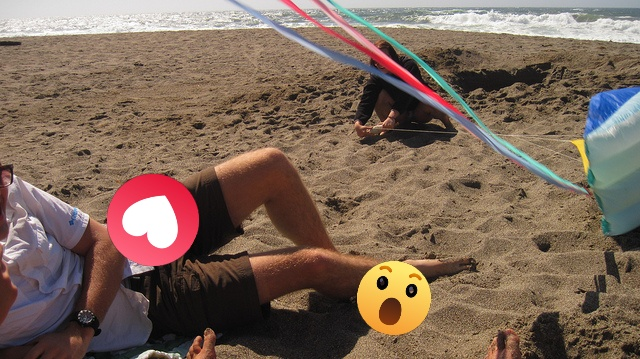love: (107, 174, 199, 266)
wow: (357, 261, 431, 335)
